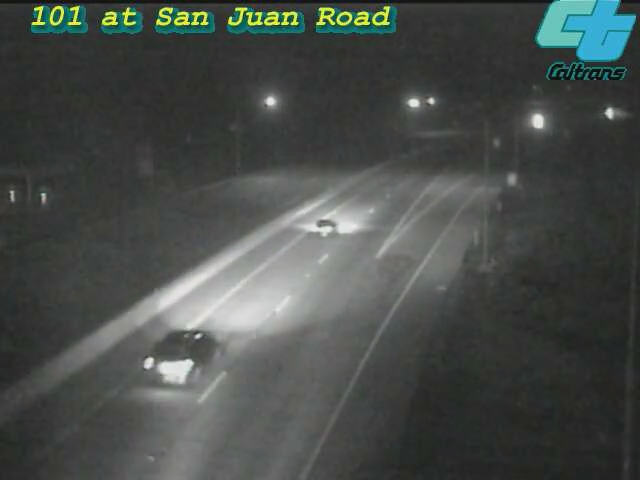vehicle: (139, 293, 249, 403), (286, 185, 366, 265), (507, 97, 557, 147), (584, 89, 634, 139), (594, 90, 640, 140)
